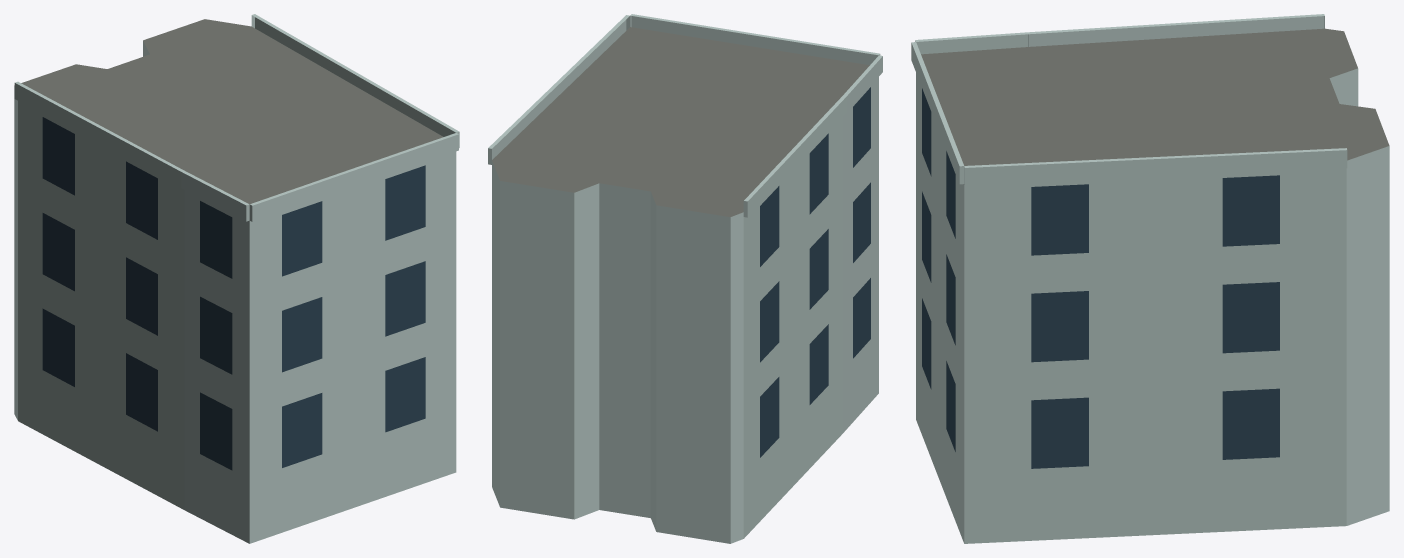
3 views of the same model, side by side, from view 1: azimuth 30°, elevation 25°; view 2: azimuth 150°, elevation 25°; view 3: azimuth 270°, elevation 25° (orthographic). The views are drawn at different scales.
Visible parts, largest first — view 1: Footprint 0 / surface 2, Footprint 0 / surface 1, Inset glazing, Facade bay volumes; view 2: Footprint 0 / surface 2, Footprint 0 / surface 1, Inset glazing, Facade bay volumes; view 3: Footprint 0 / surface 2, Footprint 0 / surface 1, Inset glazing, Facade bay volumes.
Boxes of the visible parts, x1,y1,x2,y2 form: Footprint 0 / surface 2: [14, 41, 456, 543]; Footprint 0 / surface 1: [14, 19, 443, 204]; Inset glazing: [42, 117, 425, 470]; Facade bay volumes: [14, 14, 459, 221]; Footprint 0 / surface 2: [492, 77, 878, 543]; Footprint 0 / surface 1: [492, 27, 869, 217]; Inset glazing: [760, 87, 870, 457]; Facade bay volumes: [488, 14, 882, 217]; Footprint 0 / surface 2: [916, 68, 1389, 543]; Footprint 0 / surface 1: [921, 28, 1389, 165]; Inset glazing: [922, 88, 1279, 468]; Facade bay volumes: [911, 14, 1347, 185].
Size of the model in its own units: 9.13 by 10.44 by 11.97.
